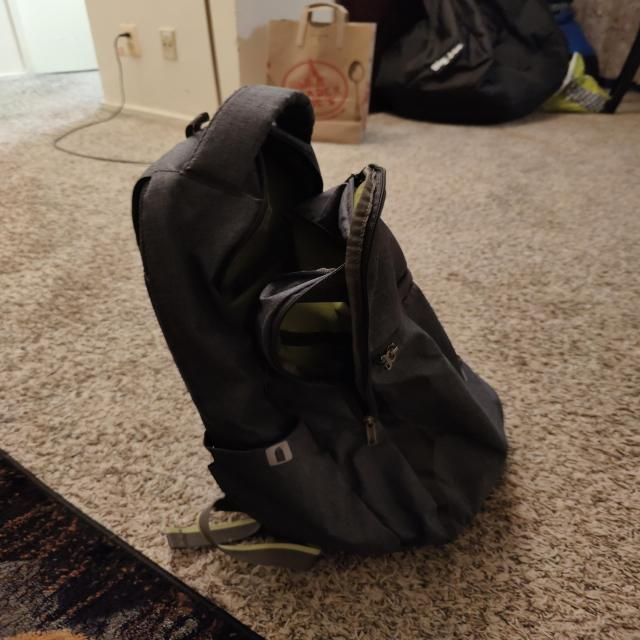bag: (139, 90, 504, 535)
